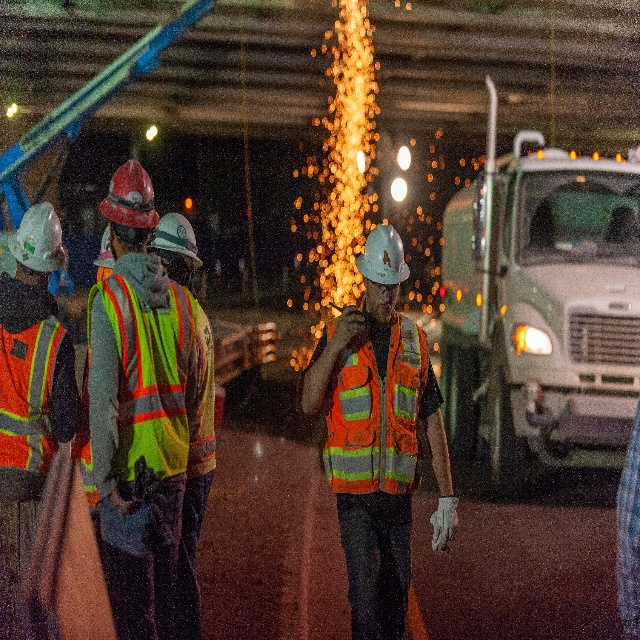Gafas: (370, 282, 399, 296)
Guantes: (431, 499, 461, 553), (128, 458, 161, 498)
Sin_guantes: (333, 305, 365, 353), (111, 485, 137, 513)
